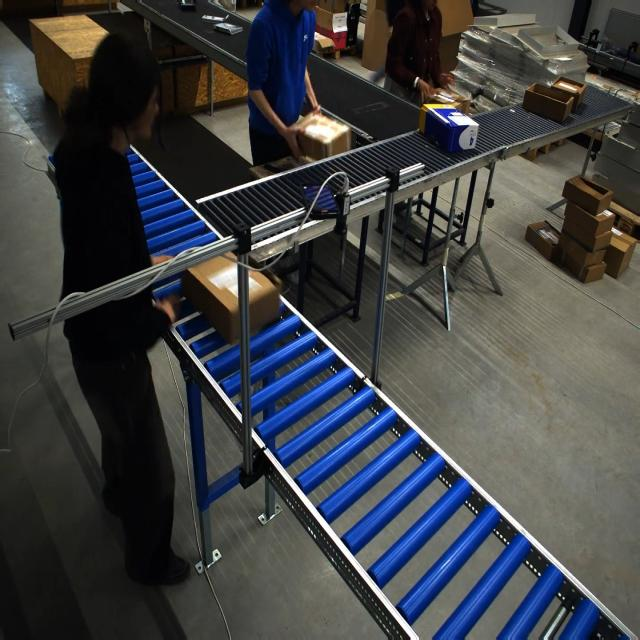box: (183, 251, 282, 343), (419, 105, 479, 153), (293, 112, 346, 163)
product: (214, 22, 244, 35), (178, 0, 197, 11), (201, 15, 227, 23)
